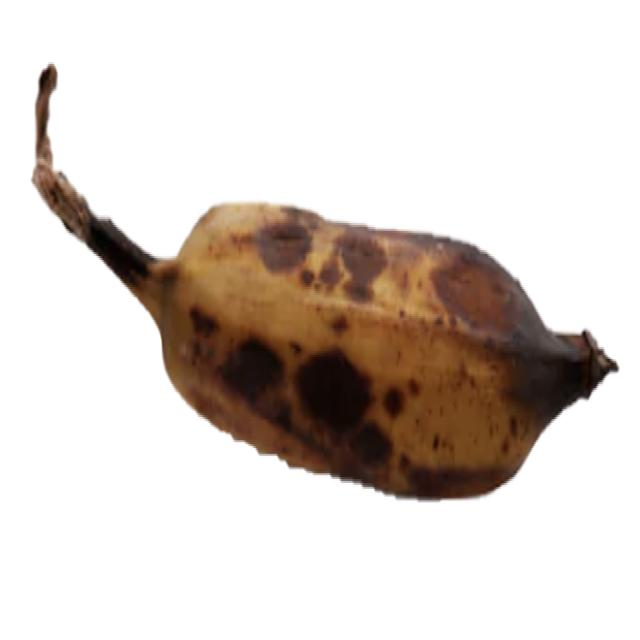rotten-banana: (30, 60, 619, 502)
